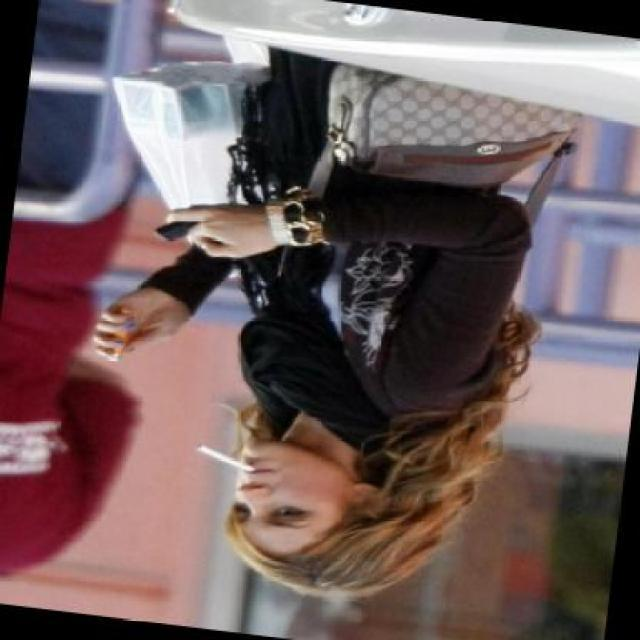cigarette: (186, 439, 266, 473)
